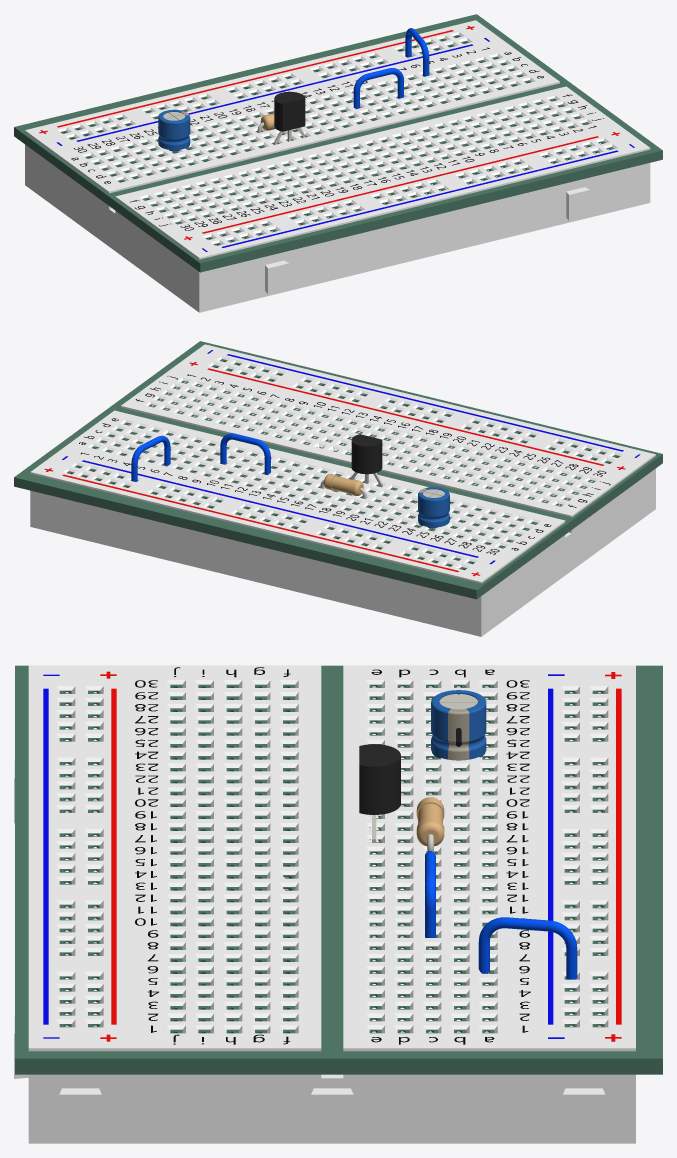
3 views of the same model, one above another, from view 1: azimuth 30°, elevation 25°; view 2: azimuth 150°, elevation 25°; view 3: azimuth 270°, elevation 25° (orthographic). The views are drawn at different scales.
Visible parts, largest first — view 1: HalfBreadboard001, breadboard_PCB, HalfBreadboard, TO-92_Inline_Wide, CP_Radial_D50mm_P250mm, Jumper-Wire_8mm_Blue, Jumper-Wire_8mm_Blue002; view 2: HalfBreadboard001, breadboard_PCB, HalfBreadboard, TO-92_Inline_Wide, CP_Radial_D50mm_P250mm, R_Axial_DIN0207_L63mm_D25mm_P762mm_Horizontal, Jumper-Wire_8mm_Blue, Jumper-Wire_8mm_Blue002; view 3: HalfBreadboard001, breadboard_PCB, HalfBreadboard, CP_Radial_D50mm_P250mm, TO-92_Inline_Wide, Jumper-Wire_8mm_Blue002, R_Axial_DIN0207_L63mm_D25mm_P762mm_Horizontal, Jumper-Wire_8mm_Blue.
Part boxes in pixels (<box>): HalfBreadboard001: <box>25,20,650,306</box>; breadboard_PCB: <box>14,14,662,272</box>; HalfBreadboard: <box>25,179,650,312</box>; TO-92_Inline_Wide: <box>273,91,305,144</box>; CP_Radial_D50mm_P250mm: <box>158,109,190,151</box>; Jumper-Wire_8mm_Blue: <box>353,68,403,109</box>; Jumper-Wire_8mm_Blue002: <box>405,28,429,76</box>; HalfBreadboard001: <box>30,344,655,630</box>; breadboard_PCB: <box>14,341,662,599</box>; HalfBreadboard: <box>30,503,655,636</box>; TO-92_Inline_Wide: <box>351,434,382,487</box>; CP_Radial_D50mm_P250mm: <box>418,487,449,528</box>; R_Axial_DIN0207_L63mm_D25mm_P762mm_Horizontal: <box>320,474,366,498</box>; Jumper-Wire_8mm_Blue: <box>220,433,270,475</box>; Jumper-Wire_8mm_Blue002: <box>131,435,170,481</box>; HalfBreadboard001: <box>14,665,635,1139</box>; breadboard_PCB: <box>15,665,662,1074</box>; HalfBreadboard: <box>28,1133,635,1143</box>; CP_Radial_D50mm_P250mm: <box>431,690,486,760</box>; TO-92_Inline_Wide: <box>359,744,400,842</box>; Jumper-Wire_8mm_Blue002: <box>478,917,577,979</box>; R_Axial_DIN0207_L63mm_D25mm_P762mm_Horizontal: <box>416,797,444,851</box>; Jumper-Wire_8mm_Blue: <box>425,851,435,937</box>.
Size of the model in its own units: 8.38 by 1.66 by 5.85.
